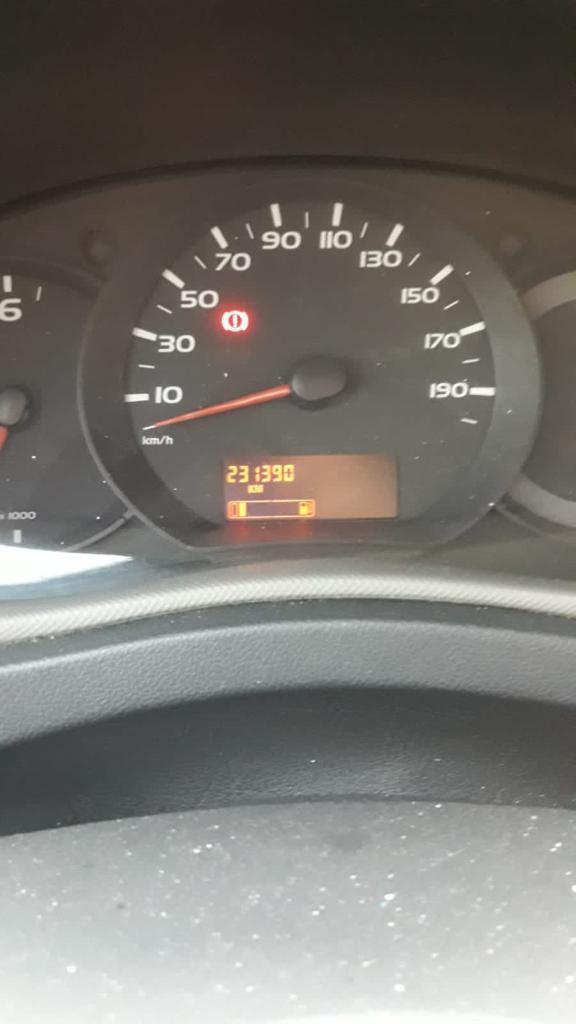0: (283, 463, 295, 481)
1: (253, 465, 260, 482)
2: (225, 464, 237, 483)
3: (260, 464, 271, 482), (238, 465, 248, 483)
9: (271, 464, 282, 482)
X: (255, 484, 264, 493), (247, 484, 255, 493)
odometer: (216, 450, 404, 525)
